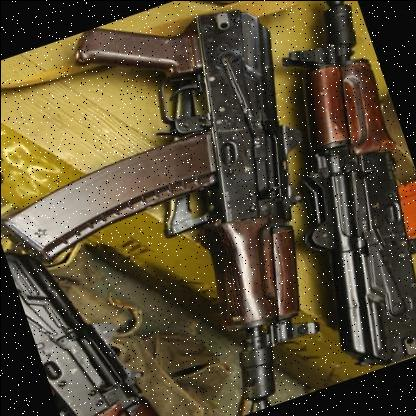rifle: (10, 0, 394, 416), (195, 0, 416, 390), (0, 203, 181, 416)
